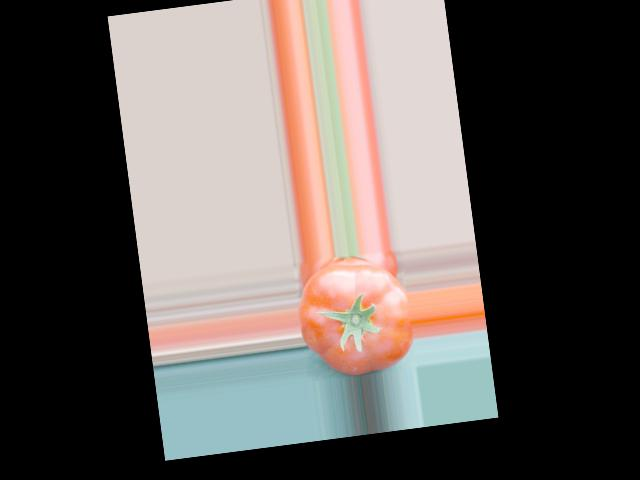tomato: (291, 256, 417, 380)
